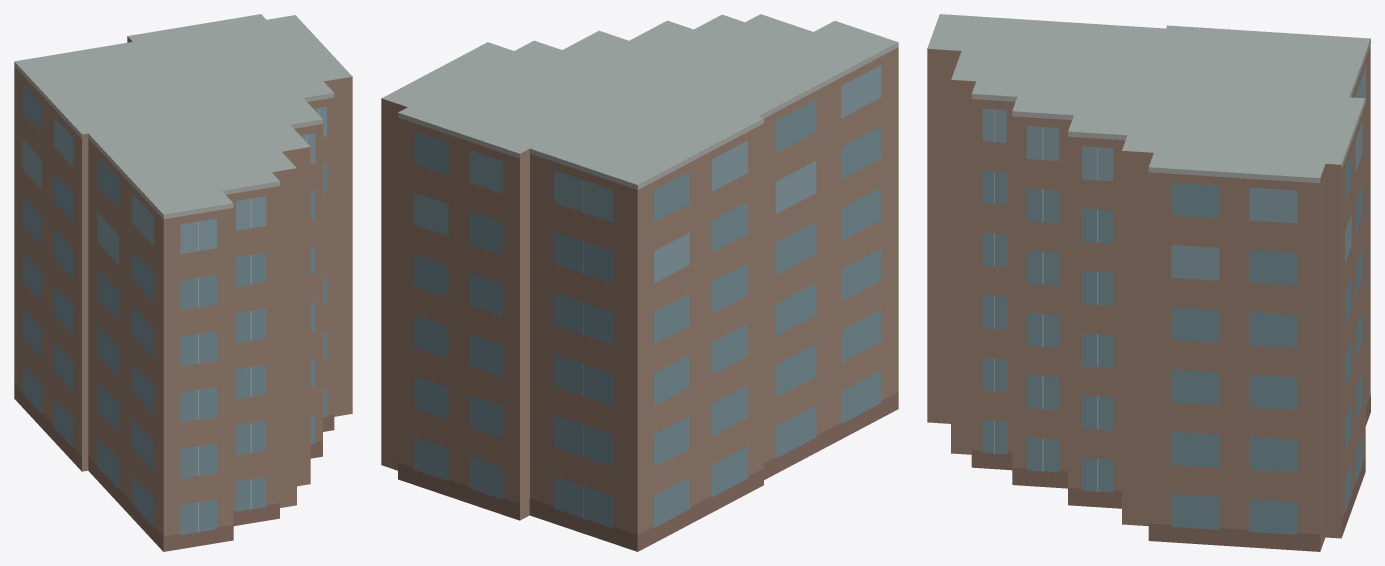
Rendered from survey-upis-32662957.glb.
3 renders of one model, left to right at view 1: azimuth 30°, elevation 25°; view 2: azimuth 150°, elevation 25°; view 3: azimuth 270°, elevation 25°, orthographic. The views are drawn at different scales.
Visible parts, largest first — view 1: survey-upis-32662957.tmp; view 2: survey-upis-32662957.tmp; view 3: survey-upis-32662957.tmp.
Part boxes in pixels (bbox=[...]): survey-upis-32662957.tmp: bbox=[14, 14, 352, 551]; survey-upis-32662957.tmp: bbox=[381, 14, 898, 551]; survey-upis-32662957.tmp: bbox=[927, 14, 1370, 551].
Bounding box in the file's own units: 16.88 × 17.9 × 19.27.
